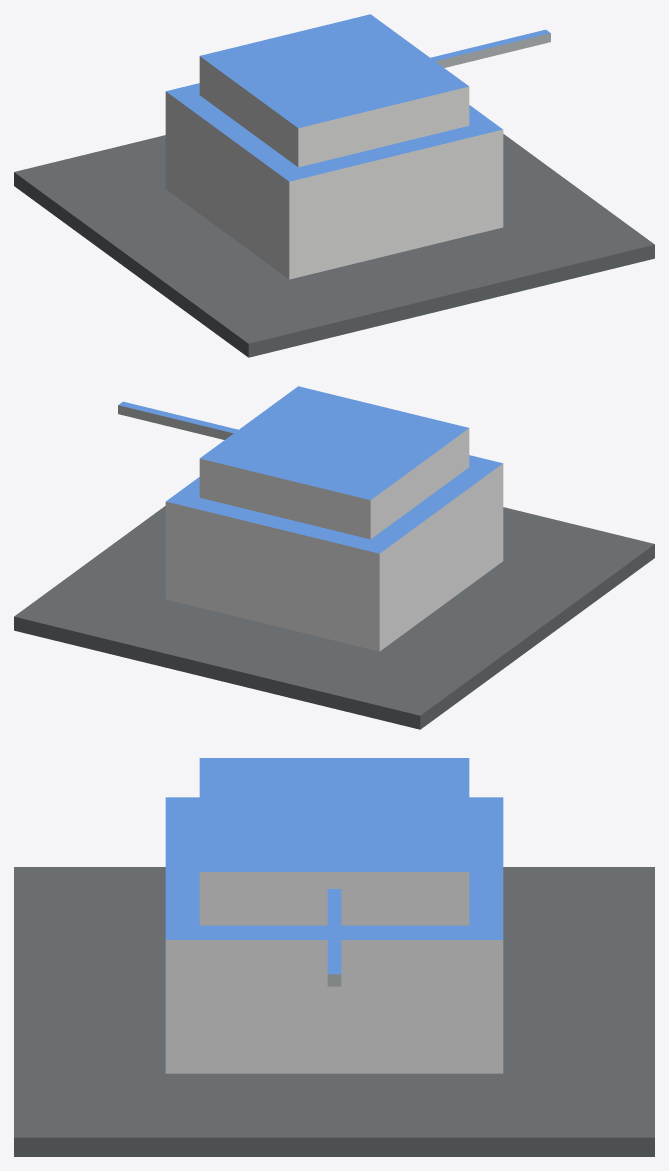
Rendered from network_automated_gun.glb.
The picture shows the model from 3 angles, top to bottom: view 1: azimuth 30°, elevation 25°; view 2: azimuth 150°, elevation 25°; view 3: azimuth 270°, elevation 25°; orthographic projection. The views are drawn at different scales.
Parts seen in each view (by area): view 1: hull, turret, barrel; view 2: hull, turret, barrel; view 3: hull, turret, barrel.
Boxes of the visible parts, bbox=[...] form: hull: bbox=[14, 83, 654, 357]; turret: bbox=[199, 14, 469, 167]; barrel: bbox=[430, 29, 550, 67]; hull: bbox=[14, 455, 654, 729]; turret: bbox=[199, 386, 469, 539]; barrel: bbox=[118, 401, 238, 439]; hull: bbox=[14, 797, 654, 1156]; turret: bbox=[199, 758, 469, 925]; barrel: bbox=[327, 889, 341, 986].
Bounding box in the file's own units: 7.8 × 2.7 × 7.6.
